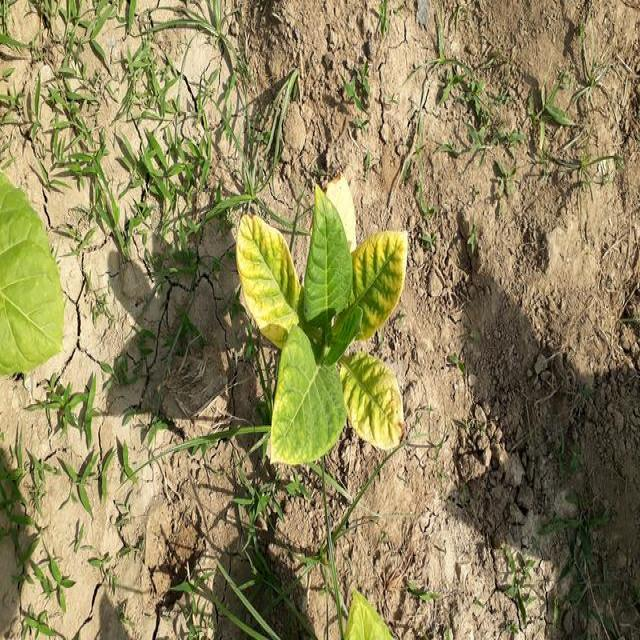crop: (232, 177, 416, 482)
